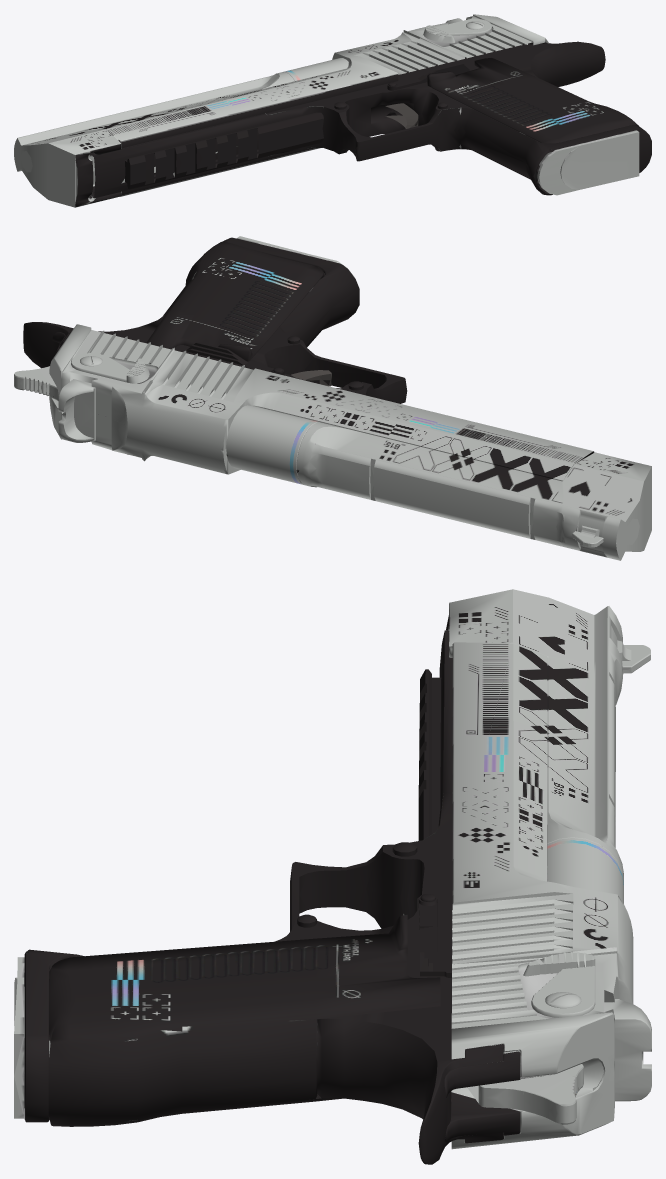
The model's file is csgo_cs2_desert_eagle.glb.
The picture shows the model from 3 angles, top to bottom: view 1: azimuth 30°, elevation 25°; view 2: azimuth 150°, elevation 25°; view 3: azimuth 270°, elevation 25°; orthographic projection. The views are drawn at different scales.
Visible parts, largest first — view 1: desert_eagle_0; view 2: desert_eagle_0; view 3: desert_eagle_0.
Part boxes in pixels (box(x1,y1,x2,y2)): desert_eagle_0: box(14, 14, 651, 207); desert_eagle_0: box(14, 236, 651, 560); desert_eagle_0: box(14, 589, 651, 1164).
Bounding box in the file's own units: 1.14 × 0.1297 × 0.6063.
1 material, 1 textured.
